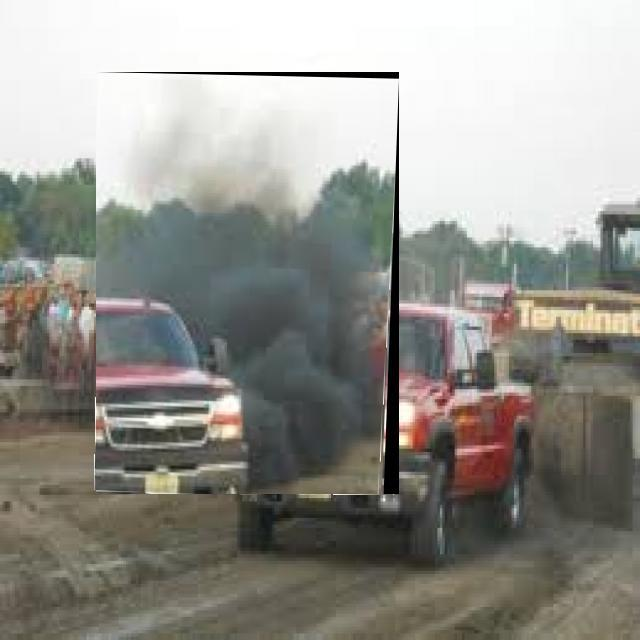smoke: (106, 82, 306, 217)
